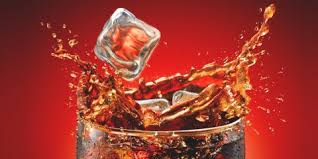coke: (37, 5, 282, 159)
